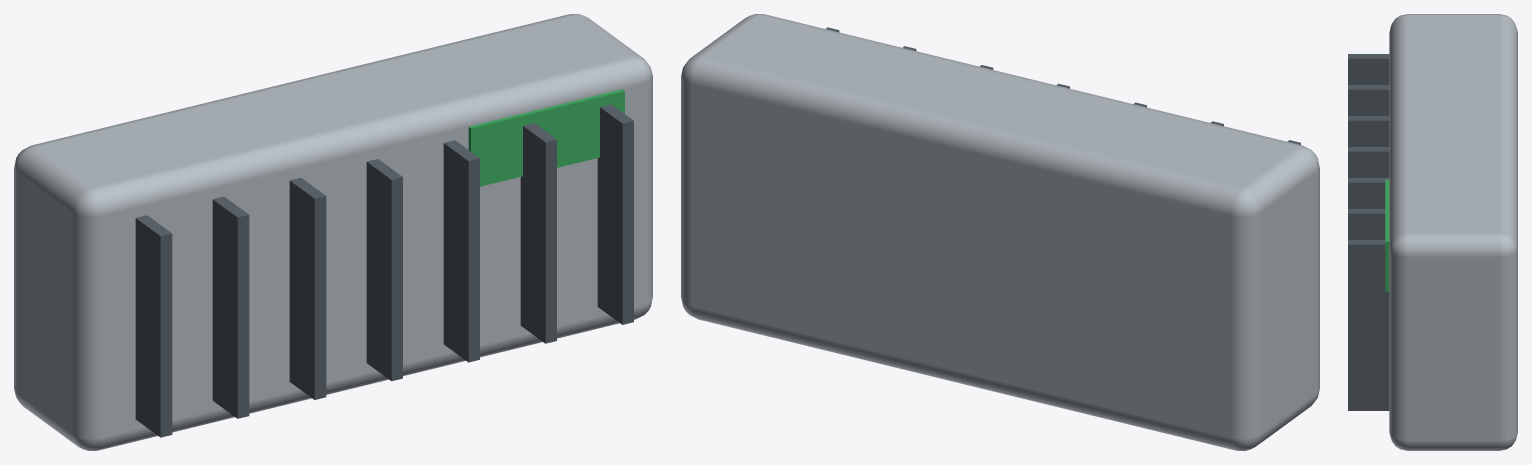
The model's file is amp-module.glb.
3 views of the same model, side by side, from view 1: azimuth 30°, elevation 25°; view 2: azimuth 150°, elevation 25°; view 3: azimuth 270°, elevation 25° (orthographic). The views are drawn at different scales.
Visible parts, largest first — view 1: amp-body, amp-fin (×7), amp-tag; view 2: amp-body; view 3: amp-body, amp-fin (×7), amp-tag.
Boxes of the visible parts, bbox=[...] form: amp-body: bbox=[14, 14, 652, 450]; amp-fin (×7): bbox=[135, 104, 633, 437]; amp-tag: bbox=[468, 89, 624, 186]; amp-body: bbox=[681, 14, 1319, 450]; amp-body: bbox=[1389, 14, 1517, 450]; amp-fin (×7): bbox=[1348, 54, 1389, 410]; amp-tag: bbox=[1385, 179, 1389, 291].
Bounding box in the file's own units: 0.6 × 0.26 × 0.185.
